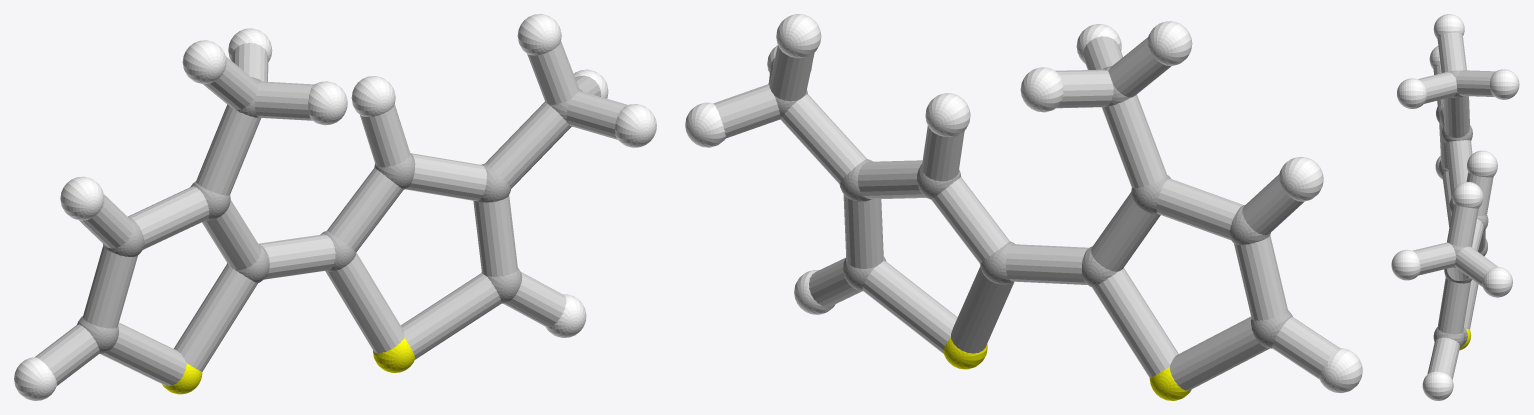
The model's file is Methylthiophene_Phi_15_Theta_170_Methylthiophene.glb.
The picture shows the model from 3 angles, left to right: view 1: azimuth 30°, elevation 25°; view 2: azimuth 150°, elevation 25°; view 3: azimuth 270°, elevation 25°; orthographic projection. The views are drawn at different scales.
Parts seen in each view (by area): view 1: grp7965, grp3621, grp1, grp7241; view 2: grp7965, grp3621, grp1, grp7241; view 3: grp7965, grp3621, grp1.
Part boxes in pixels (<box>): grp7965: <box>35,41,627,386</box>; grp3621: <box>14,14,656,400</box>; grp1: <box>77,77,582,353</box>; grp7241: <box>162,338,415,394</box>; grp7965: <box>713,36,1339,390</box>; grp3621: <box>685,14,1362,393</box>; grp1: <box>768,66,1292,348</box>; grp7241: <box>943,337,1191,400</box>; grp7965: <box>1413,32,1497,379</box>; grp3621: <box>1391,14,1519,400</box>; grp1: <box>1433,70,1488,347</box>.
Bounding box in the file's own units: 9.78 × 5.71 × 2.48.
